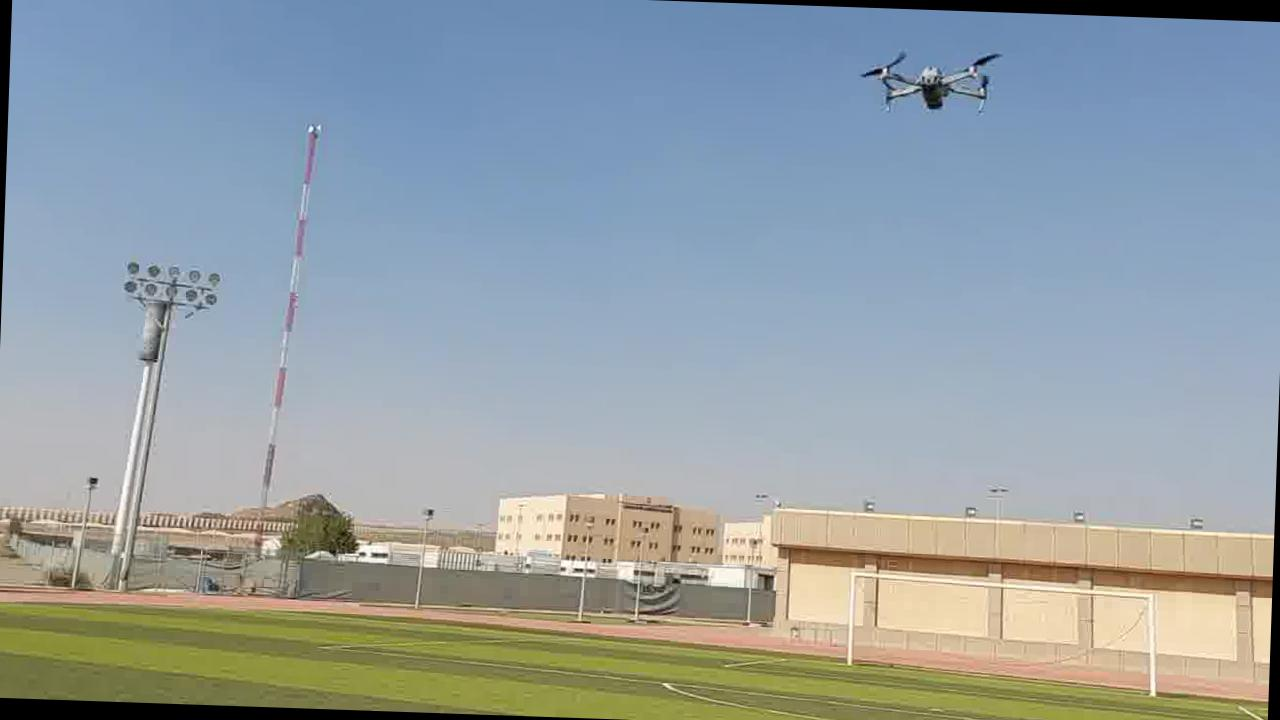drone: (859, 42, 1014, 126)
